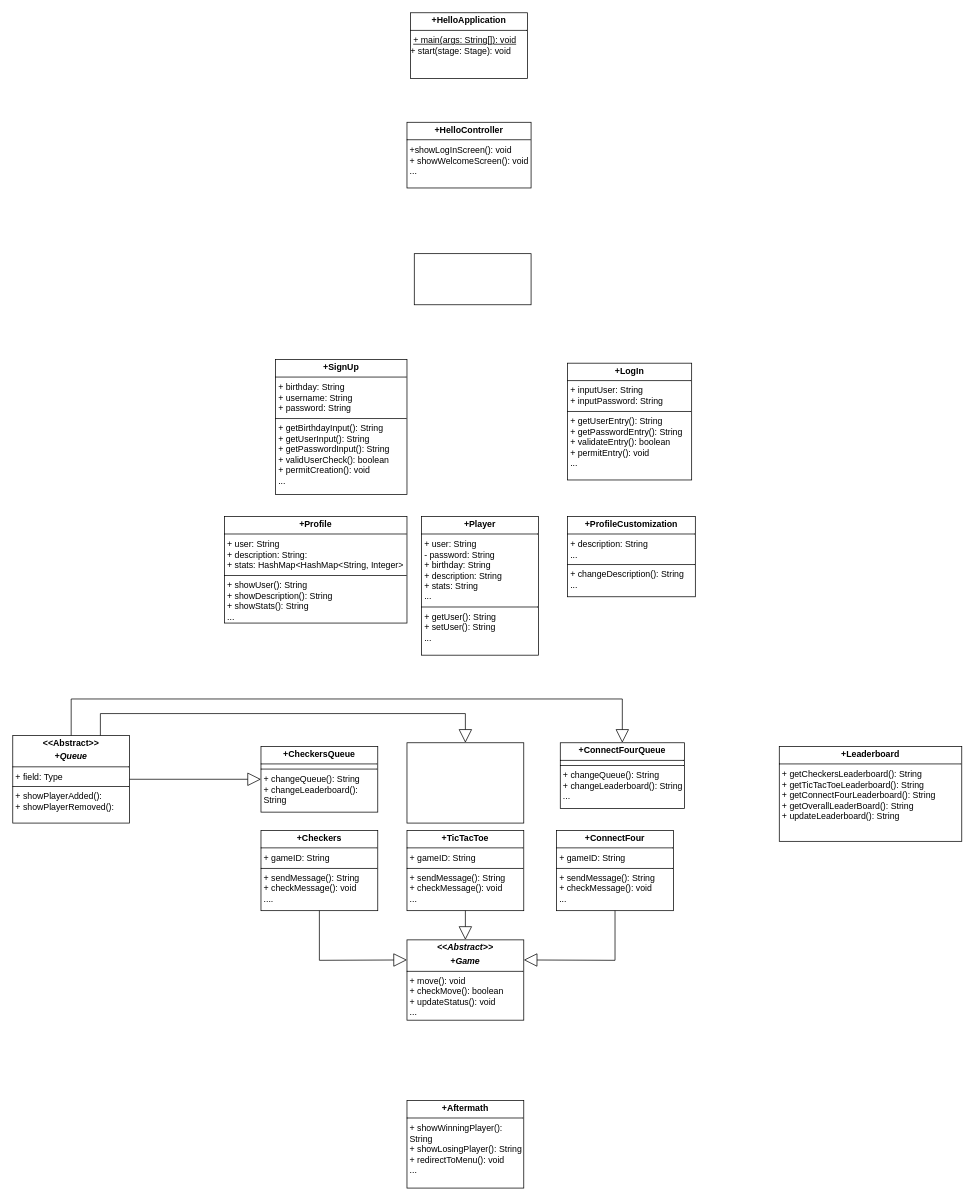
The diagram is 975 pixels wide and 1201 high, and some of its shapes have lost their labels. Here are the shapes that lost their labels. From the top down, the box of each, then its label:
(414, 253, 531, 305): +WelcomeScreen + logInRedirect(): void + signUpRedirect(): void
(406, 742, 524, 823): +TicTacToeQueue + changeQueue(): String + changeLeaderboard(): String ...
